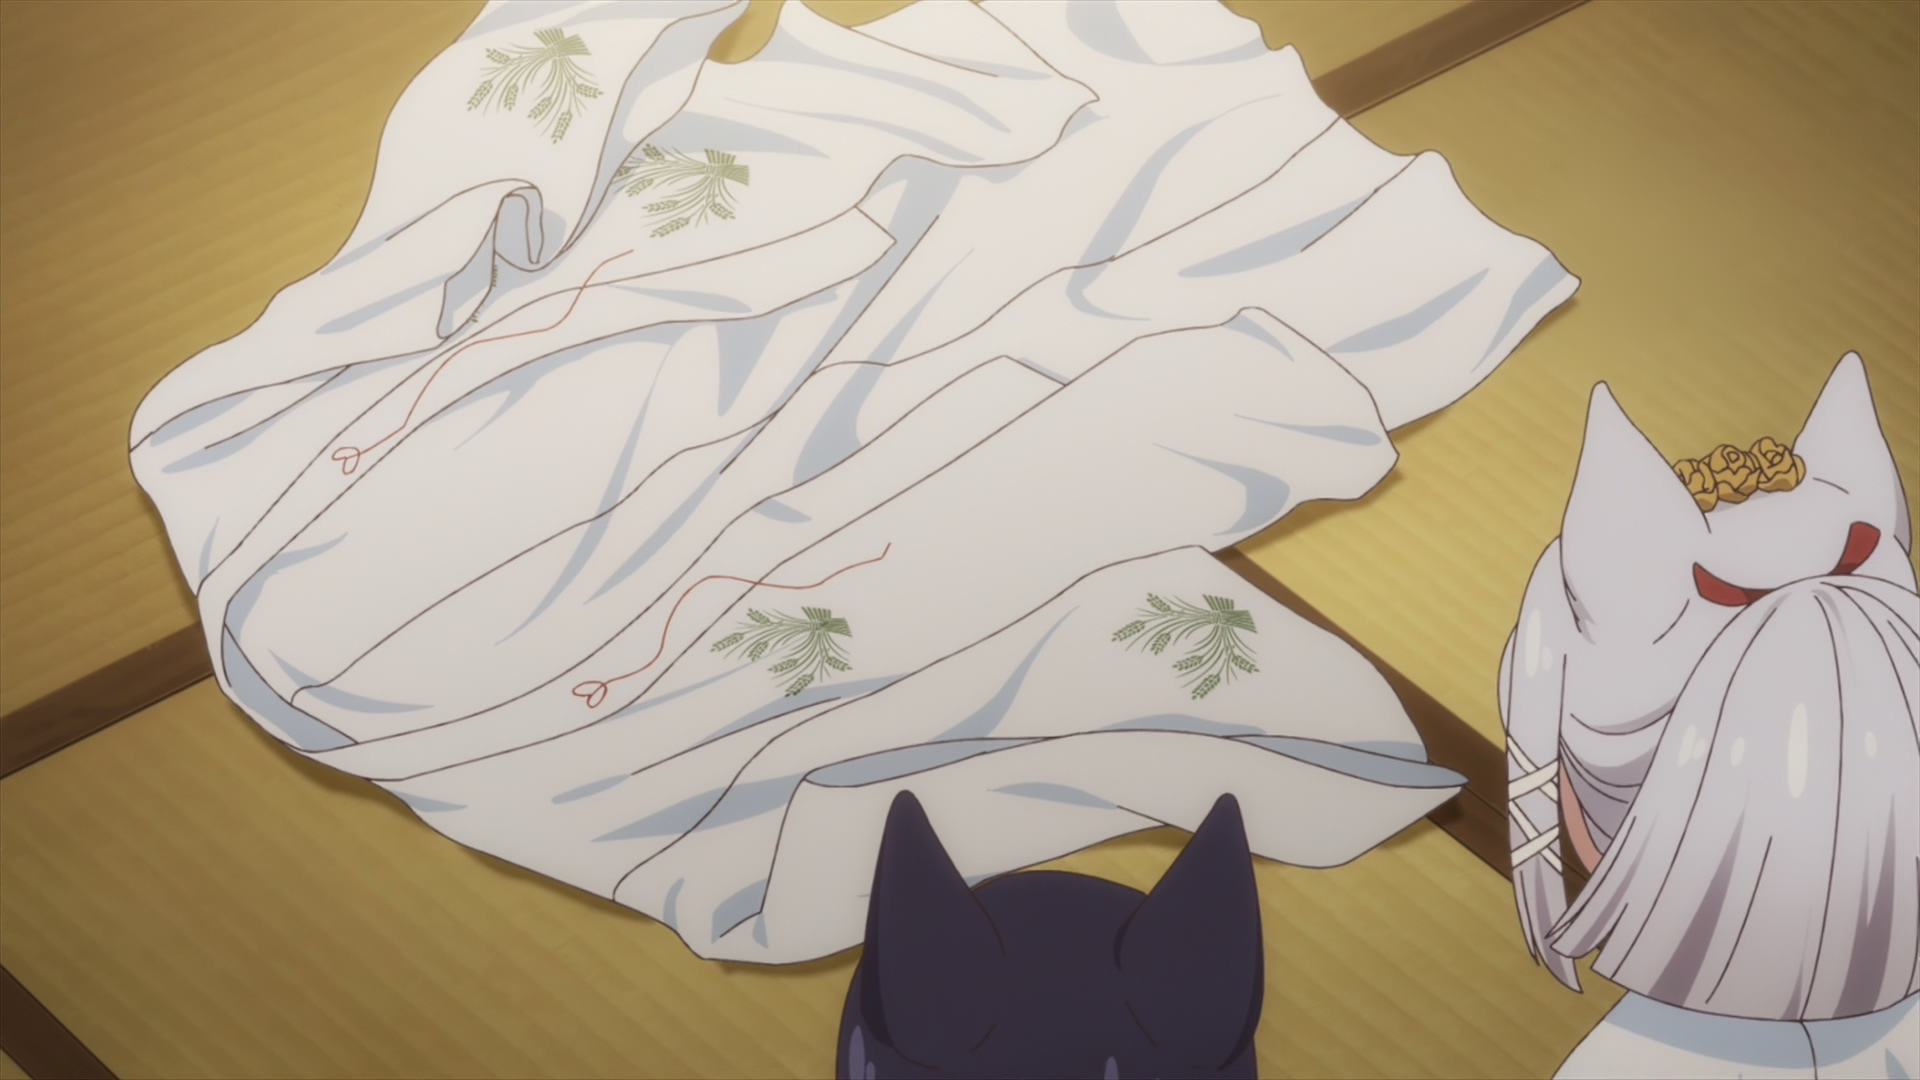柊: (1501, 349, 1920, 1080)
菖: (833, 790, 1266, 1080)
